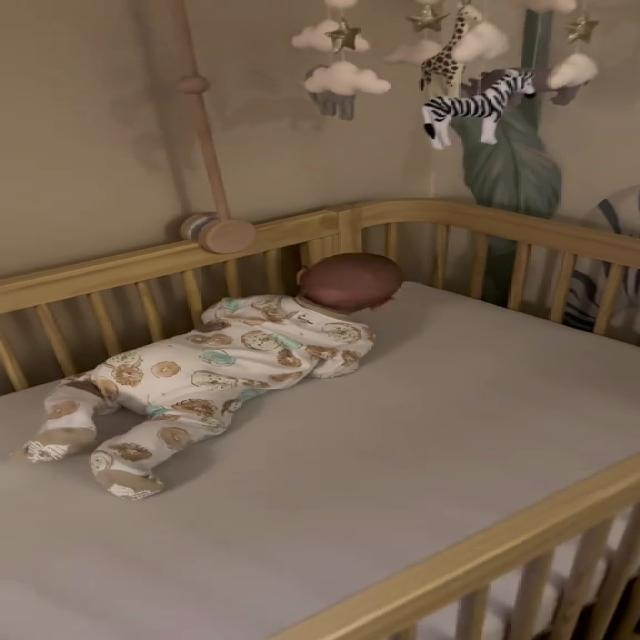baby: (26, 246, 441, 508)
